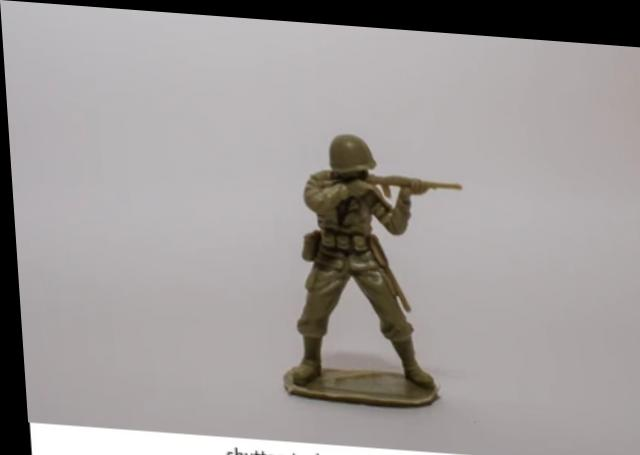other: (278, 121, 416, 373)
